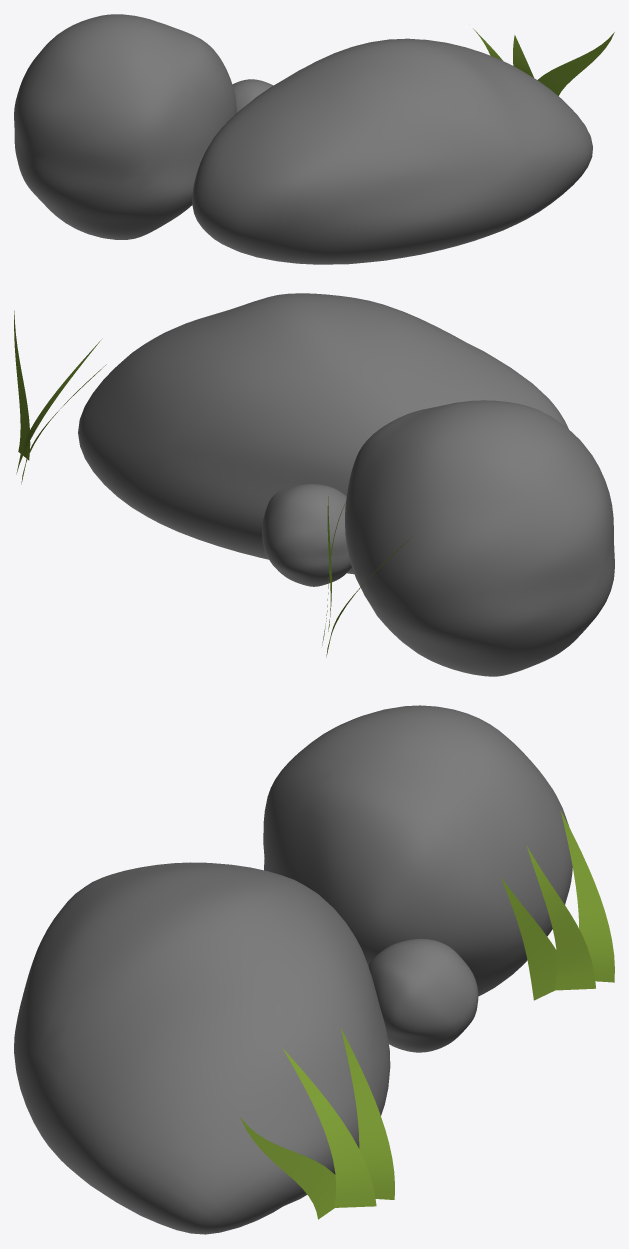
File: rocks.glb
3 renders of one model, top to bottom at view 1: azimuth 30°, elevation 25°; view 2: azimuth 150°, elevation 25°; view 3: azimuth 270°, elevation 25°, orthographic. The views are drawn at different scales.
Visible parts, largest first — view 1: Icosphere_8, Icosphere.001_9, BezierCurve.014_25, Icosphere.002_10; view 2: Icosphere_8, Icosphere.001_9, Icosphere.002_10, BezierCurve.014_25, BezierCurve.017_28; view 3: Icosphere_8, Icosphere.001_9, BezierCurve.014_25, Icosphere.002_10, BezierCurve.017_28.
Part boxes in pixels (x1=…): Icosphere_8: x1=192, y1=38, x2=592, y2=264; Icosphere.001_9: x1=14, y1=14, x2=236, y2=239; BezierCurve.014_25: x1=473, y1=28, x2=614, y2=95; Icosphere.002_10: x1=232, y1=79, x2=273, y2=112; Icosphere_8: x1=78, y1=293, x2=568, y2=574; Icosphere.001_9: x1=345, y1=400, x2=614, y2=676; Icosphere.002_10: x1=262, y1=484, x2=351, y2=586; BezierCurve.014_25: x1=14, y1=310, x2=106, y2=484; BezierCurve.017_28: x1=322, y1=496, x2=411, y2=657; Icosphere_8: x1=14, y1=862, x2=390, y2=1234; Icosphere.001_9: x1=263, y1=705, x2=572, y2=996; BezierCurve.014_25: x1=240, y1=1028, x2=394, y2=1219; Icosphere.002_10: x1=368, y1=938, x2=478, y2=1052; BezierCurve.017_28: x1=500, y1=810, x2=614, y2=1000.
Size of the model in its own units: 0.3484 by 0.1284 by 0.2418.
